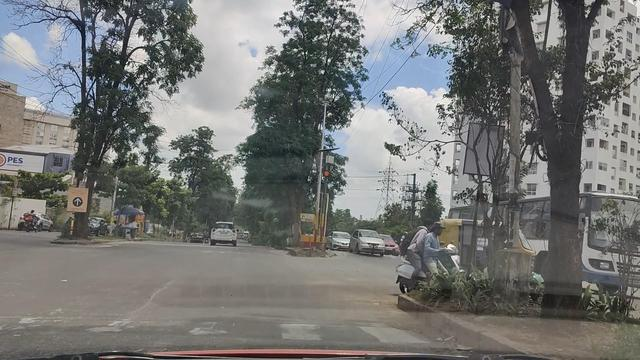RoadDamages: (141, 273, 182, 305)
SpeedBump: (0, 315, 464, 357)
